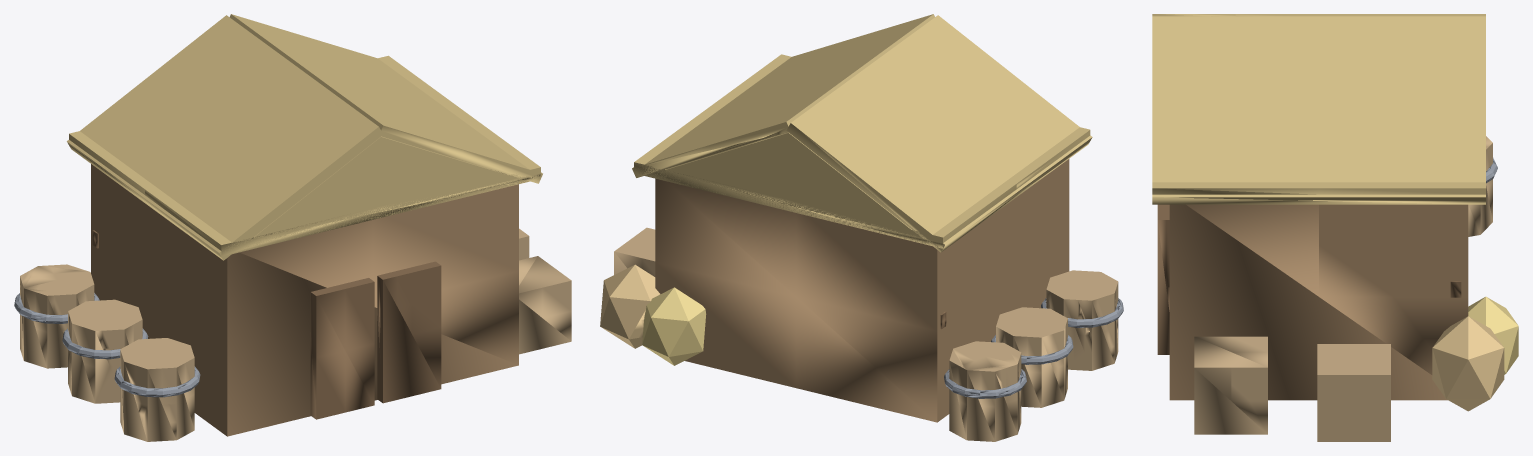
File: warehouse.glb
3 views of the same model, side by side, from view 1: azimuth 30°, elevation 25°; view 2: azimuth 150°, elevation 25°; view 3: azimuth 270°, elevation 25° (orthographic). The views are drawn at different scales.
Parts seen in each view (by area): view 1: WarehouseBody; view 2: WarehouseBody; view 3: WarehouseBody.
Part boxes in pixels (left/top/right/bottom): WarehouseBody: left=14, top=14, right=571, bottom=441; WarehouseBody: left=600, top=14, right=1123, bottom=441; WarehouseBody: left=1152, top=14, right=1518, bottom=441.
Bounding box in the file's own units: 3.23 × 1.93 × 2.09.
